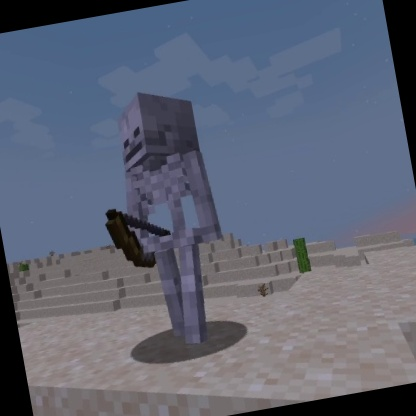skeleton: (78, 77, 246, 363)
